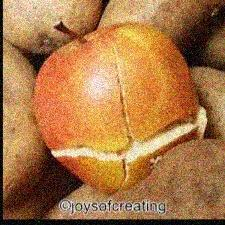rotten apple: (30, 22, 215, 196)
